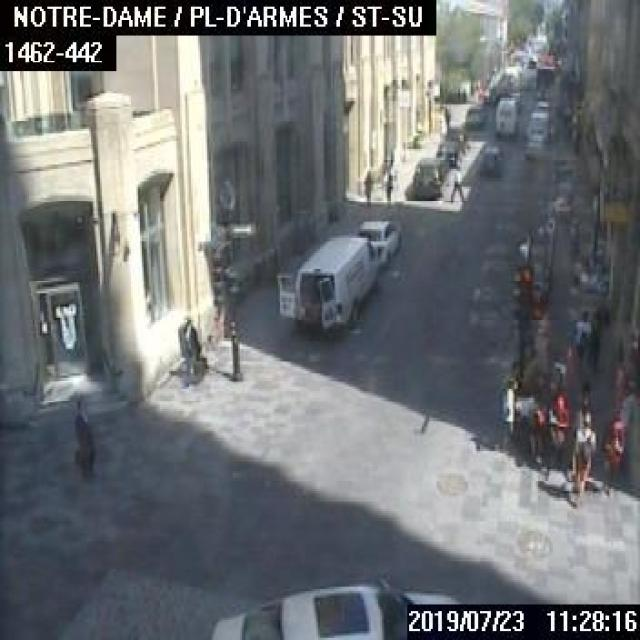pedestrian: (569, 412, 595, 504), (600, 407, 624, 491), (67, 386, 89, 476), (544, 389, 569, 468), (178, 314, 206, 384), (526, 379, 546, 459), (573, 307, 589, 387), (500, 375, 516, 443), (448, 161, 464, 201), (384, 164, 394, 213), (360, 169, 371, 211), (440, 102, 449, 129)
vehicle: (207, 578, 462, 638), (273, 233, 381, 335), (353, 217, 403, 264), (407, 156, 448, 197), (494, 96, 516, 136), (478, 144, 502, 176), (526, 110, 550, 140), (434, 139, 461, 165), (442, 125, 468, 150), (536, 64, 554, 99), (522, 134, 544, 158), (463, 105, 487, 126), (533, 98, 548, 114), (526, 52, 536, 66)
